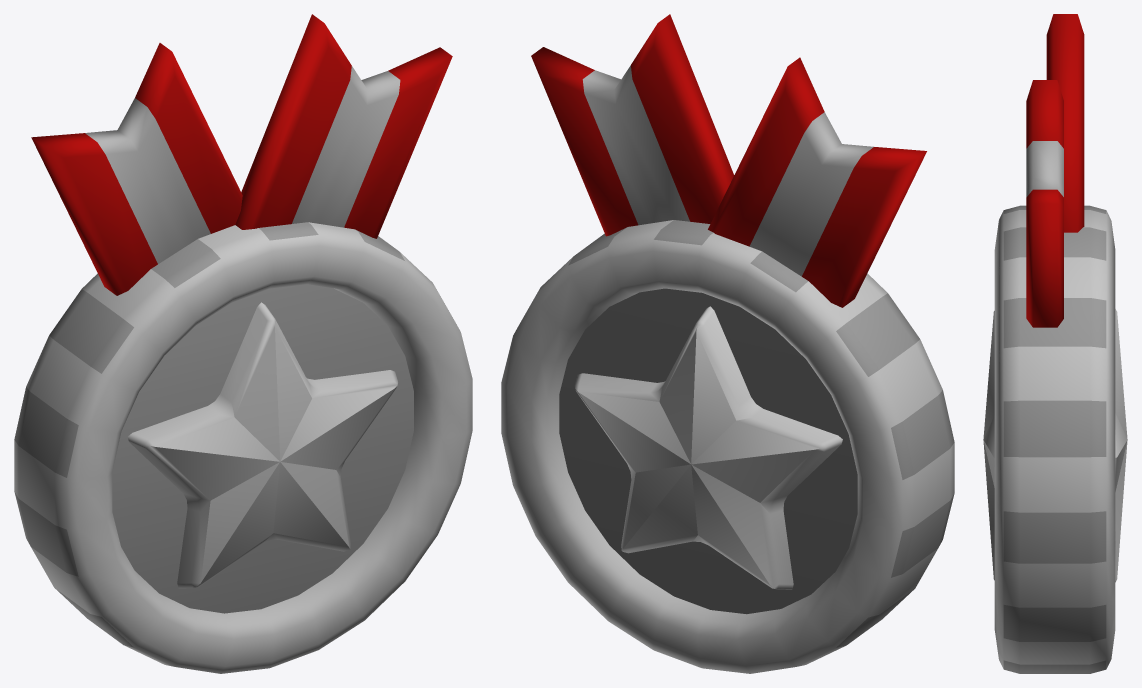
File: Medal_V1_0.fbx
3 views of the same model, side by side, from view 1: azimuth 30°, elevation 25°; view 2: azimuth 150°, elevation 25°; view 3: azimuth 270°, elevation 25° (orthographic). The views are drawn at different scales.
Visible parts, largest first — view 1: Medal_V1_0; view 2: Medal_V1_0; view 3: Medal_V1_0.
Part boxes in pixels (left/top/right/bottom): Medal_V1_0: left=14, top=14, right=472, bottom=673; Medal_V1_0: left=501, top=14, right=954, bottom=673; Medal_V1_0: left=983, top=14, right=1127, bottom=673.
Size of the model in its own units: 0.3931 by 0.5644 by 0.1218.
